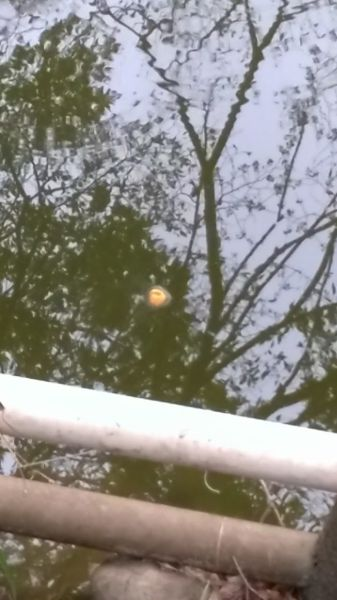eggs: (142, 285, 174, 312)
